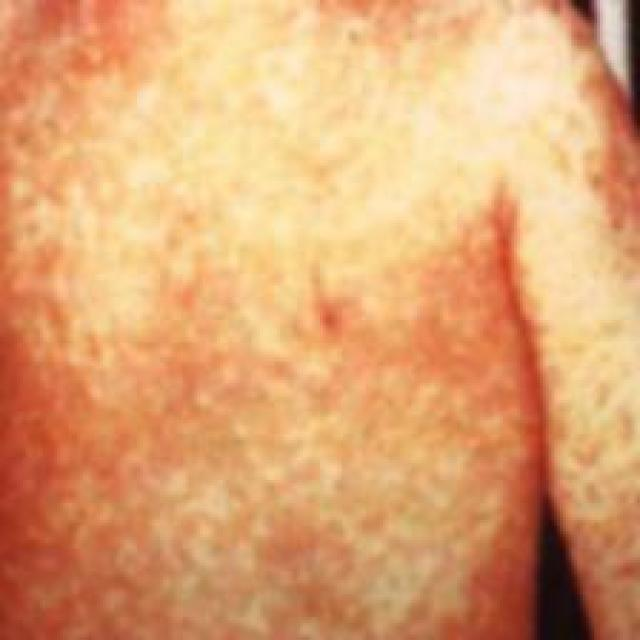others: (0, 0, 626, 629)
